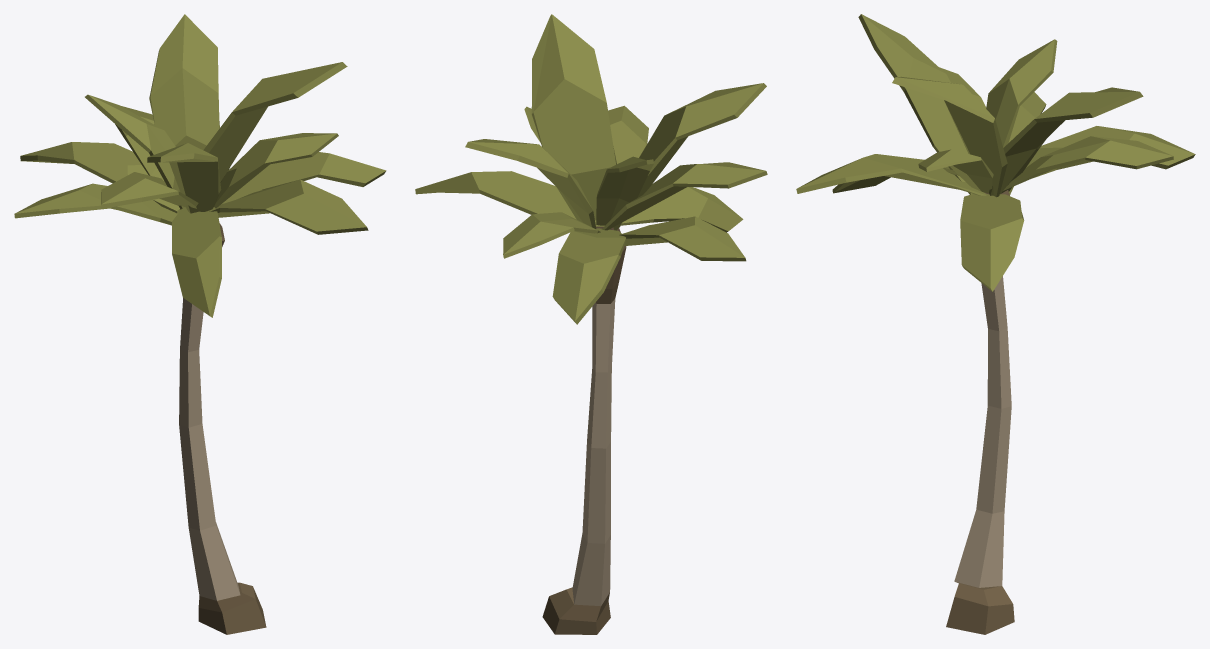
The model's file is greek_tree_3.fbx.
The picture shows the model from 3 angles, left to right: view 1: azimuth 30°, elevation 25°; view 2: azimuth 150°, elevation 25°; view 3: azimuth 270°, elevation 25°; orthographic projection. The views are drawn at different scales.
Visible parts, largest first — view 1: palm1; view 2: palm1; view 3: palm1.
Part boxes in pixels (<box>): palm1: <box>14,14,386,634</box>; palm1: <box>415,14,767,634</box>; palm1: <box>796,14,1195,634</box>.
Size of the model in its own units: 429 by 662 by 416.
